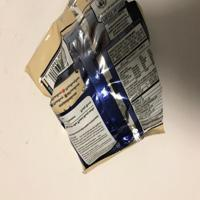plastic: (25, 0, 166, 175)
